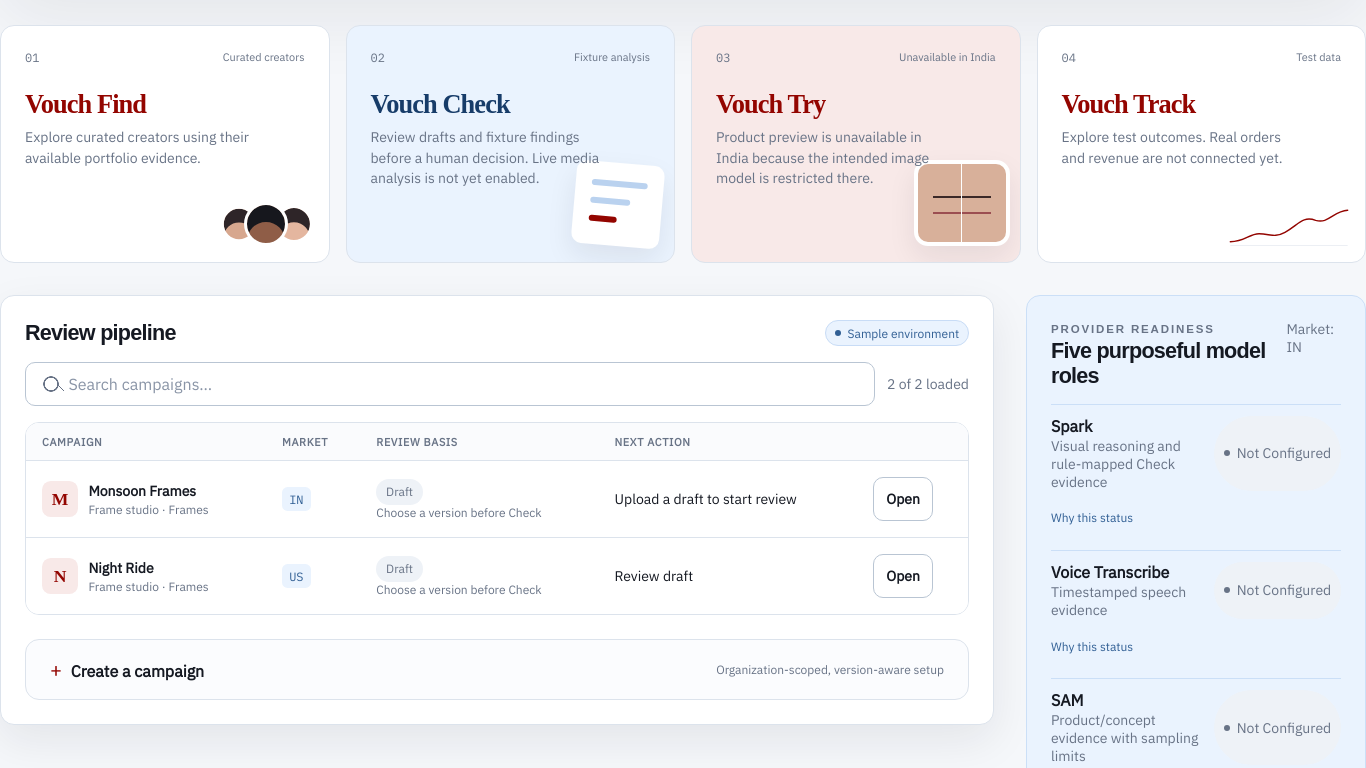
Scenario: searches loaded campaigns and offers recovery from no matches
(page scrolled)
Check: the text "Night Ride" is shown, box [88, 559, 154, 577]
Step 1. Type "nIgHt" into the search field named "Search loaded campaigns" → [450, 384], box [25, 362, 875, 406]
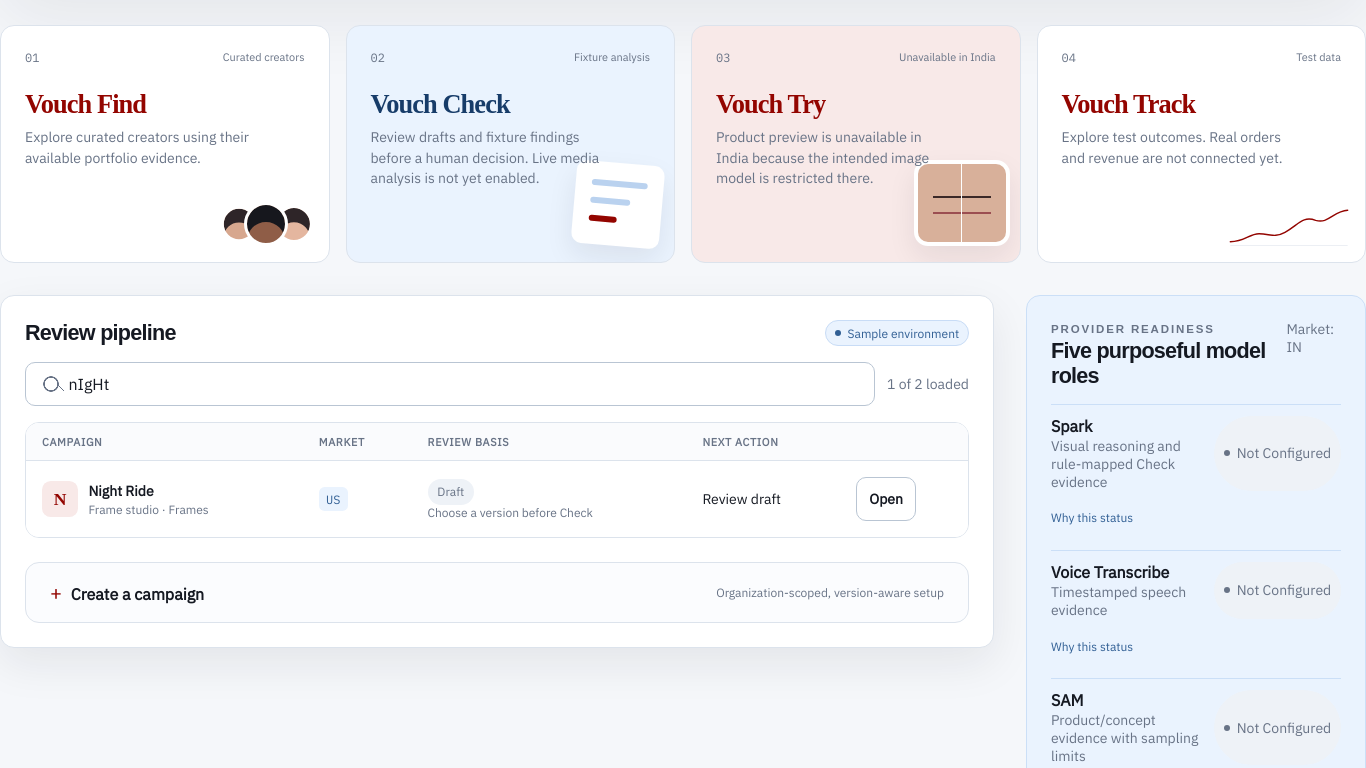
Check: the text "Night Ride" is shown, box [88, 482, 154, 500]
Check: the text "Monsoon Frames" is gone
Check: the text "1 of 2 loaded" is shown, box [887, 375, 969, 393]
Step 2. Replace the text in the search field named "Search loaded campaigns" with "unmatched" → [450, 384], box [25, 362, 875, 406]
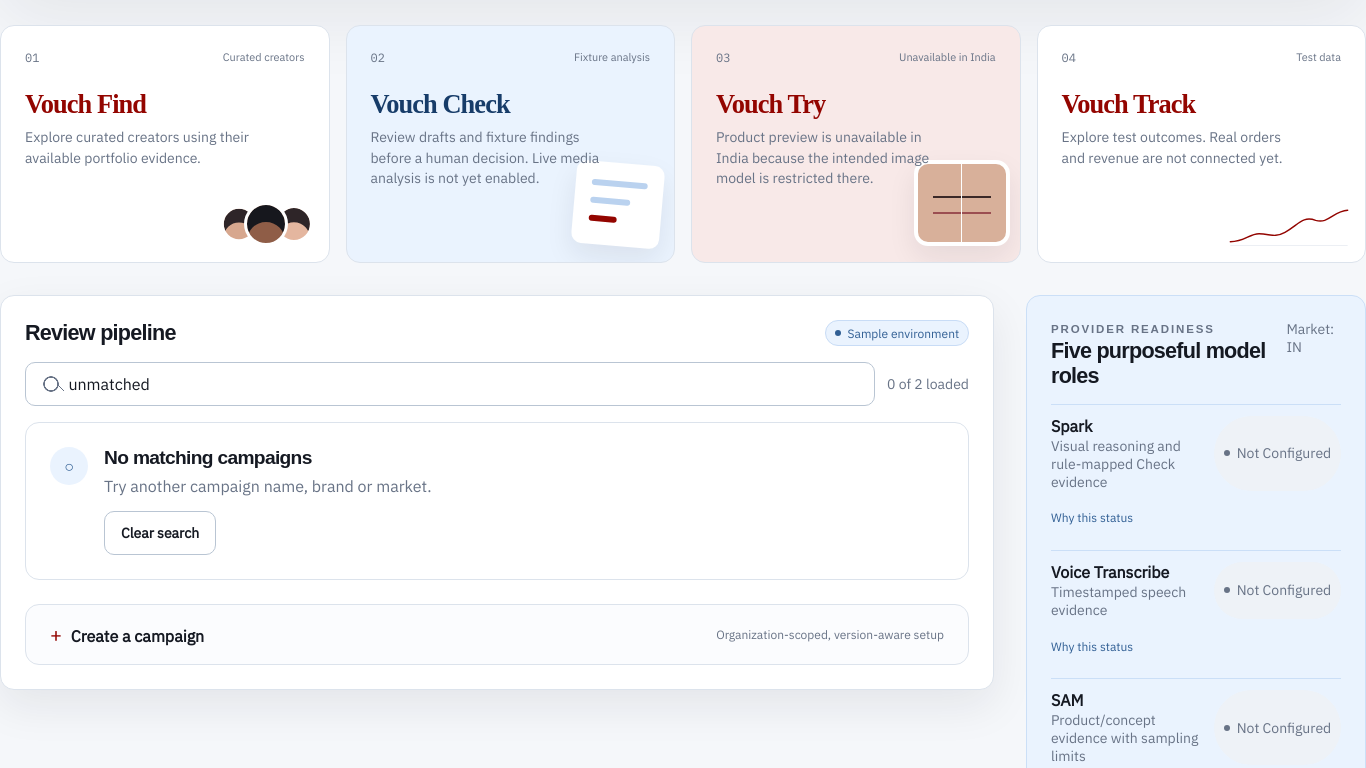
Check: the heading "No matching campaigns" is shown, box [104, 447, 312, 468]
Step 3. Click the button "Clear search" → [160, 533], box [104, 511, 216, 555]
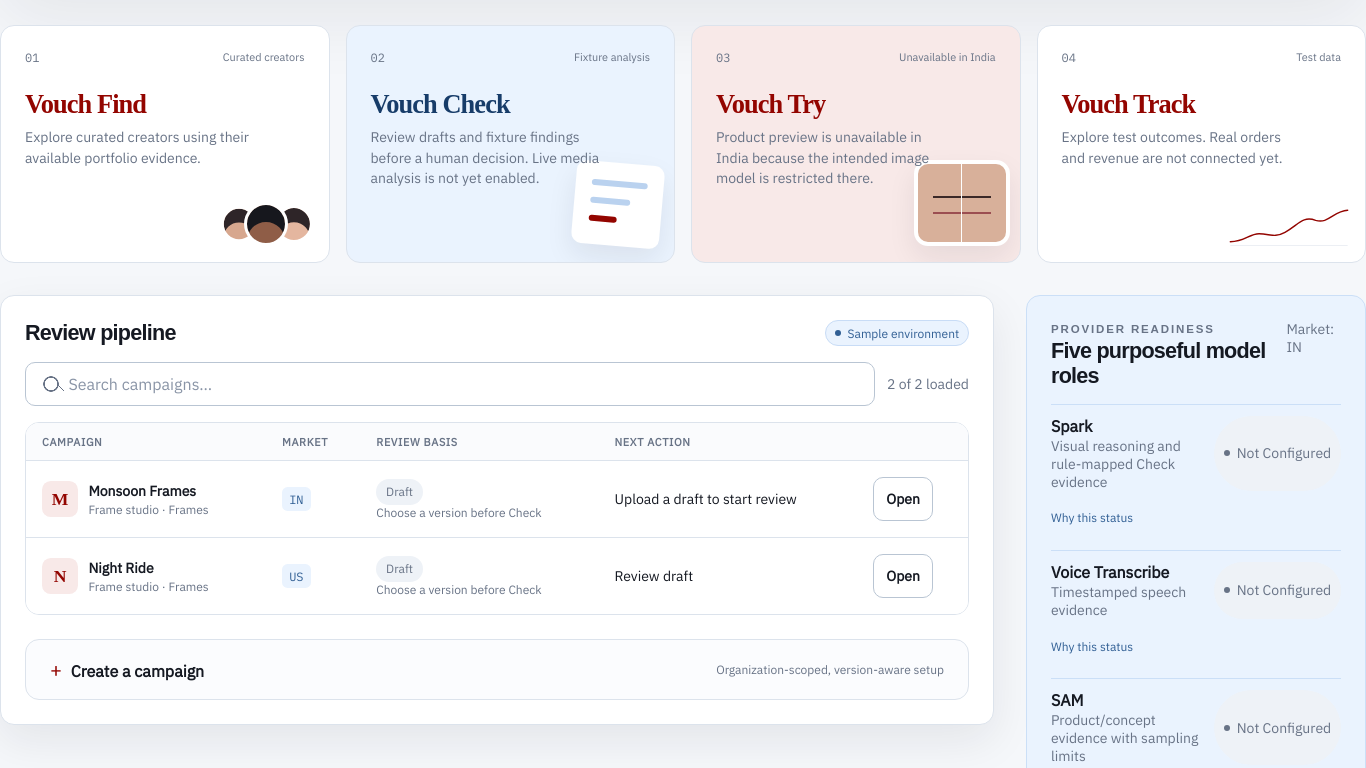
Check: the text "Monsoon Frames" is shown, box [88, 482, 209, 500]
